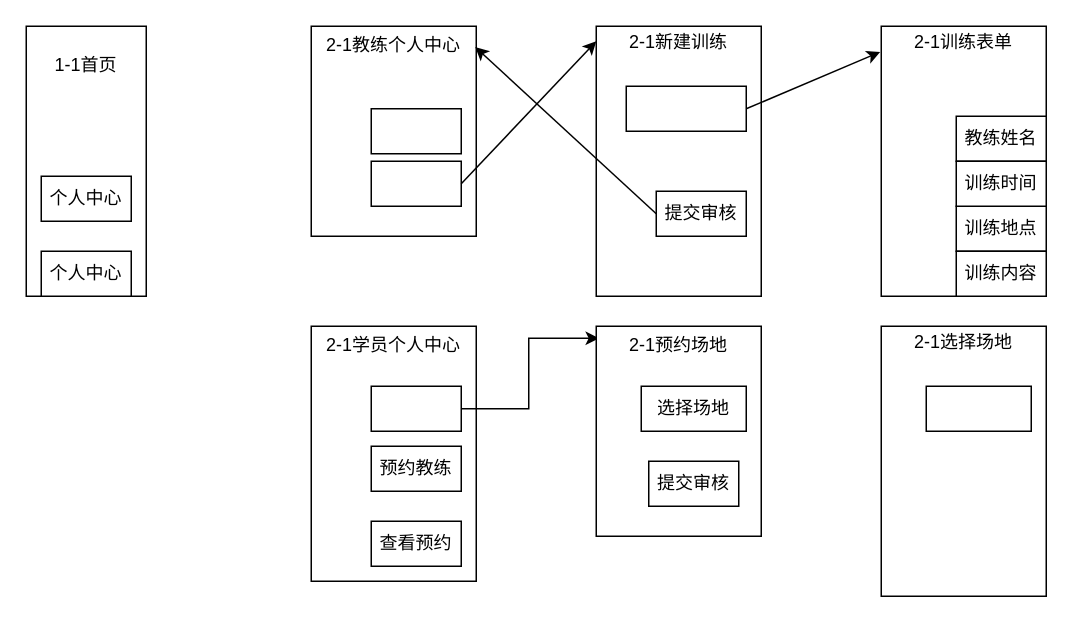
Some shapes in this 1073 by 623 pixel diagram are drawn without their labels. Here are the shapes that lost their labels. From the top down, the centre of each, then its label:
At [685,108]: "训练表单".
At [415,130]: "新建训练".
At [415,183]: "查看训练".
At [415,408]: "预约场地".
At [978,408]: "关键字搜索".
